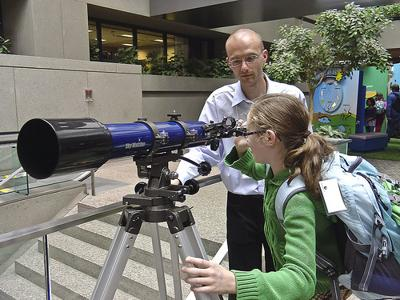person: (183, 94, 347, 300)
